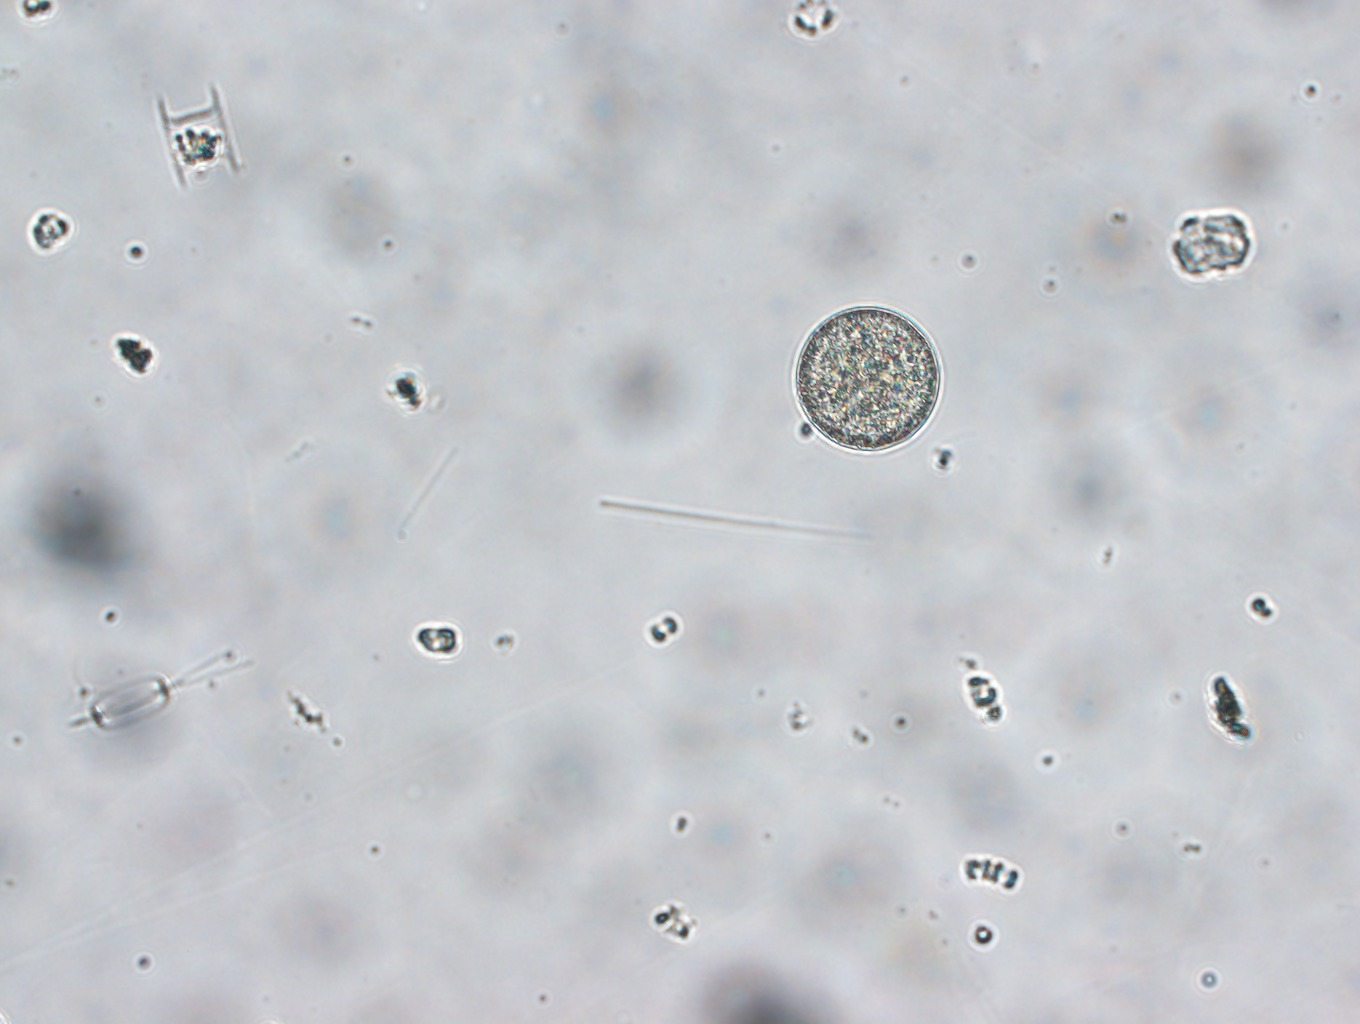chaetoceros: (42, 637, 258, 737)
coscinodiscus: (787, 298, 947, 457)
